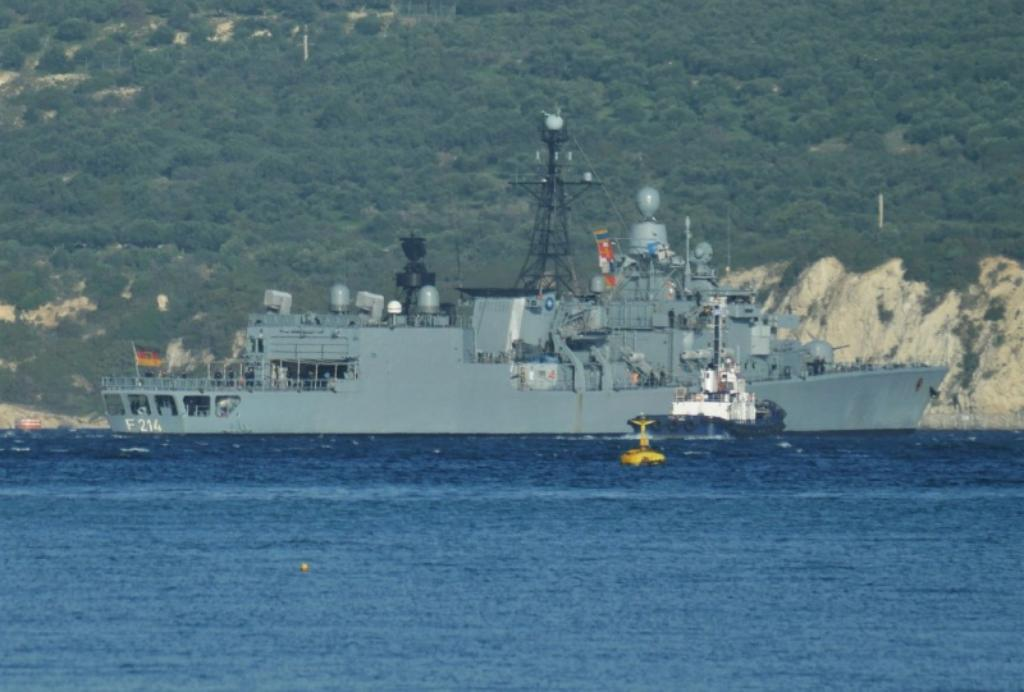Warship: (88, 114, 958, 442)
